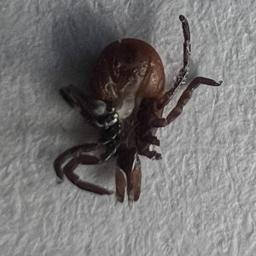Ixodes scapularis: (53, 14, 223, 203)
